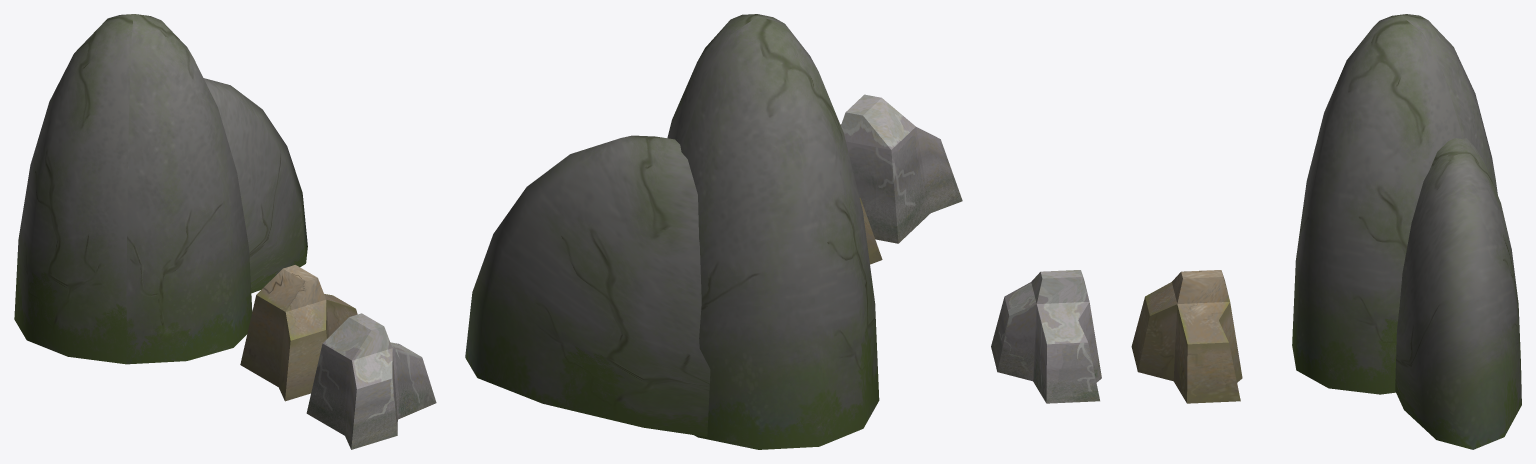
The model's file is rochas_mod.fbx.
3 views of the same model, side by side, from view 1: azimuth 30°, elevation 25°; view 2: azimuth 150°, elevation 25°; view 3: azimuth 270°, elevation 25° (orthographic). The views are drawn at different scales.
Visible parts, largest first — view 1: rocha curva, rocha cinza, rocha marrom; view 2: rocha curva, rocha cinza; view 3: rocha curva, rocha marrom, rocha cinza.
Part boxes in pixels (x1,y1,x2,y2): rocha curva: (14, 14, 307, 364); rocha cinza: (306, 313, 436, 449); rocha marrom: (240, 265, 357, 401); rocha curva: (465, 14, 879, 449); rocha cinza: (840, 94, 962, 243); rocha curva: (1292, 14, 1521, 449); rocha marrom: (1131, 270, 1242, 403); rocha cinza: (991, 270, 1101, 403).
Size of the model in its own units: 1406 by 1364 by 1998.
